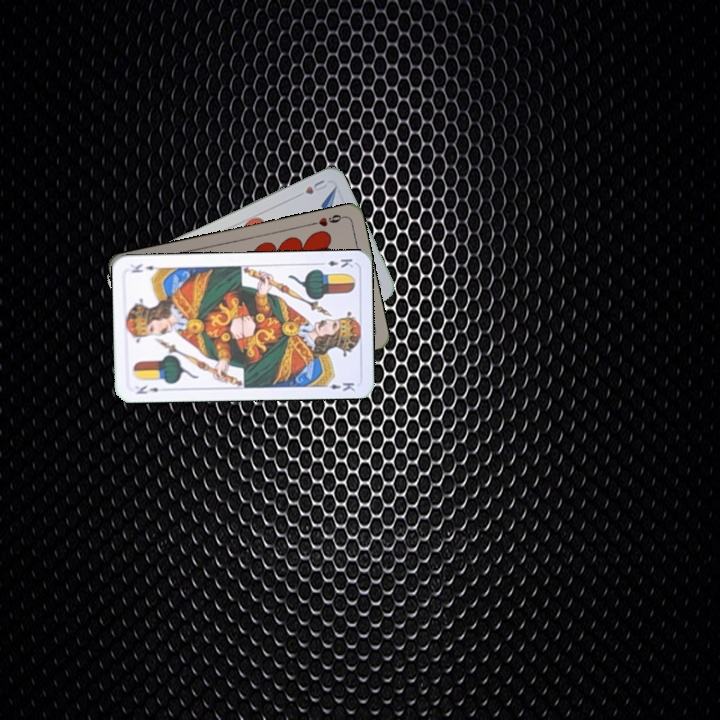EK: (315, 255, 356, 270), (132, 381, 161, 397)
H9: (307, 210, 347, 229)
HU: (301, 175, 330, 197)
